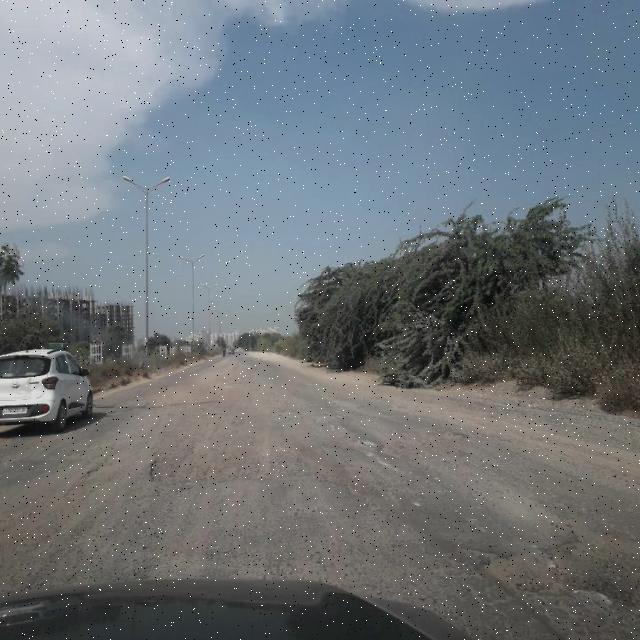D00: (329, 469, 427, 553)
D20: (429, 535, 626, 639)
D40: (480, 532, 638, 612), (142, 430, 321, 487), (65, 431, 128, 493), (432, 418, 480, 447), (340, 424, 388, 453)
